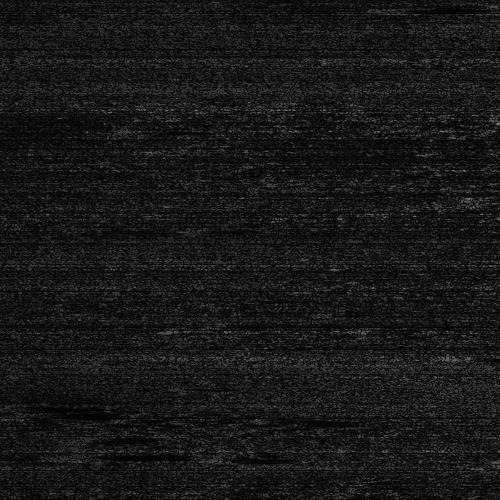object: (29, 450, 102, 459), (0, 410, 64, 417), (0, 401, 43, 408), (441, 355, 500, 360), (375, 5, 428, 10), (219, 454, 260, 459)
shadow: (66, 450, 160, 459), (11, 401, 97, 408), (23, 410, 95, 417), (402, 5, 486, 10), (240, 454, 315, 459), (473, 355, 500, 360)
